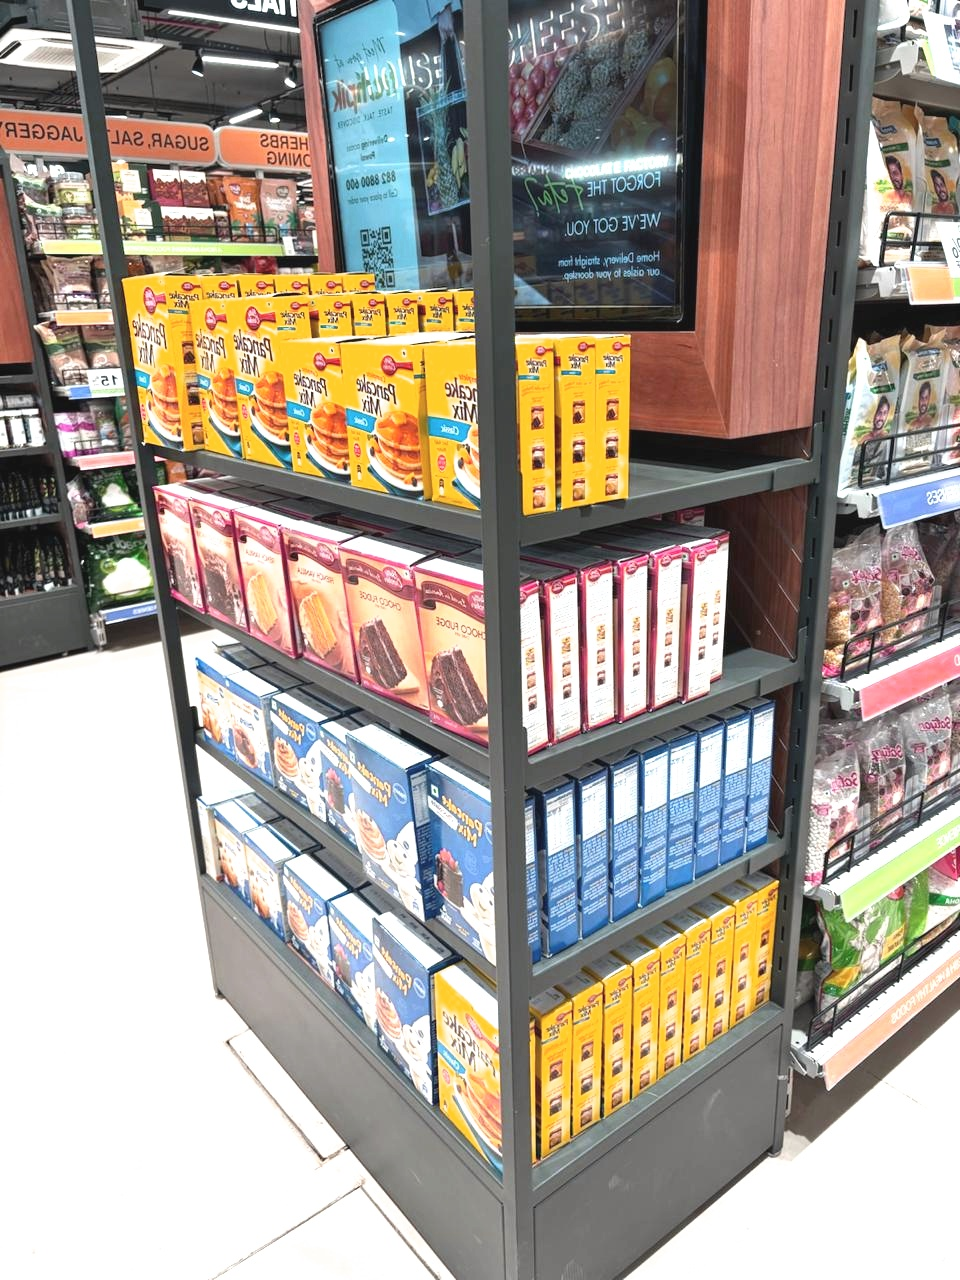Betty Crocker Pancake Mix: (430, 956, 545, 1180), (425, 338, 556, 520), (340, 331, 432, 503), (238, 288, 309, 467), (132, 269, 203, 447), (279, 336, 358, 483), (183, 295, 249, 459), (558, 335, 601, 509), (592, 336, 634, 506), (600, 957, 641, 1125), (678, 916, 719, 1067), (541, 990, 578, 1157), (571, 976, 608, 1140), (632, 943, 664, 1102), (706, 903, 739, 1050), (657, 931, 688, 1086), (756, 868, 784, 1022), (731, 898, 761, 1032), (306, 282, 353, 336), (379, 284, 421, 335), (352, 285, 394, 333), (422, 285, 456, 333)
